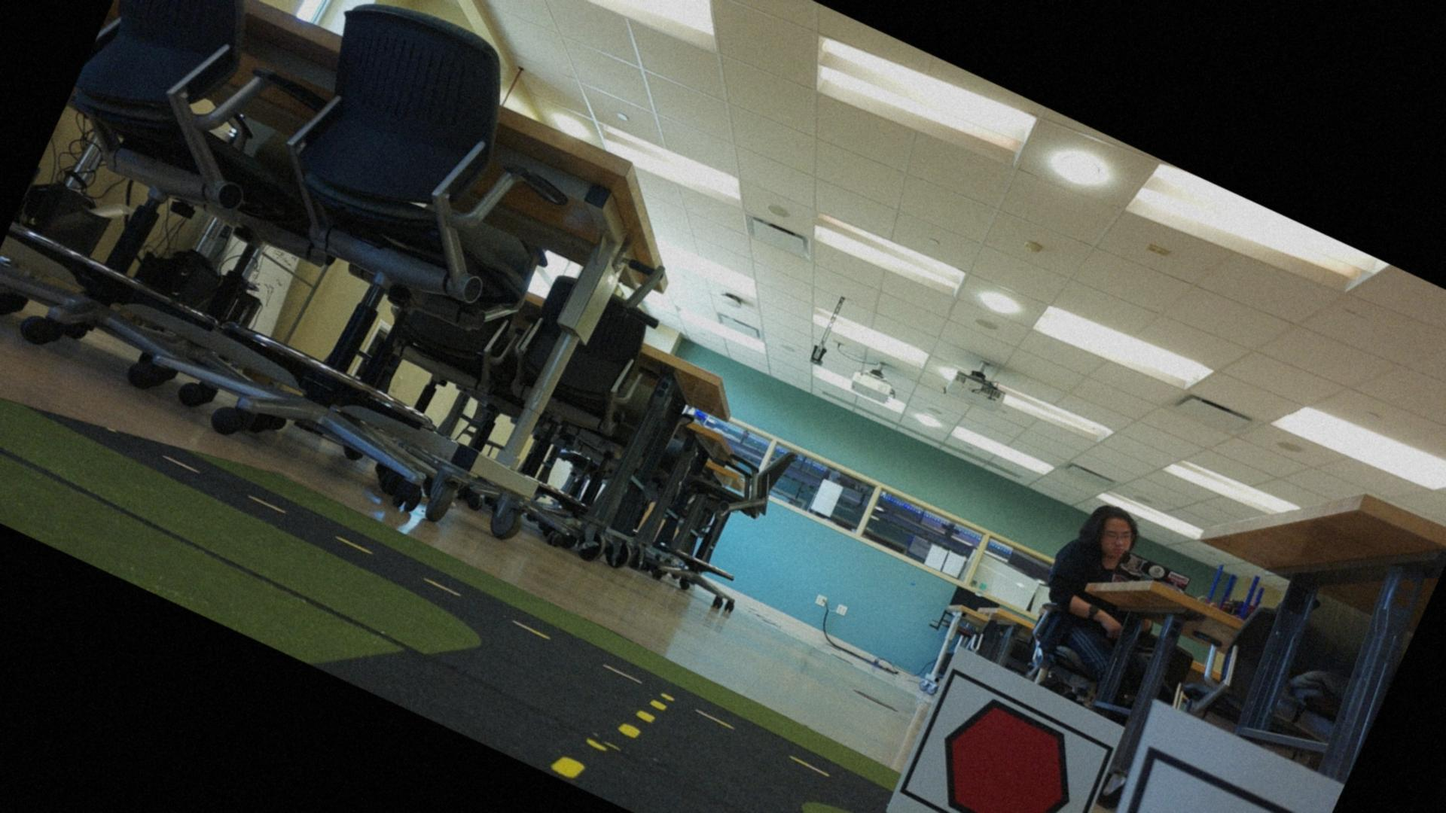stop: (902, 678, 1109, 812)
yellowline: (618, 689, 667, 747)
